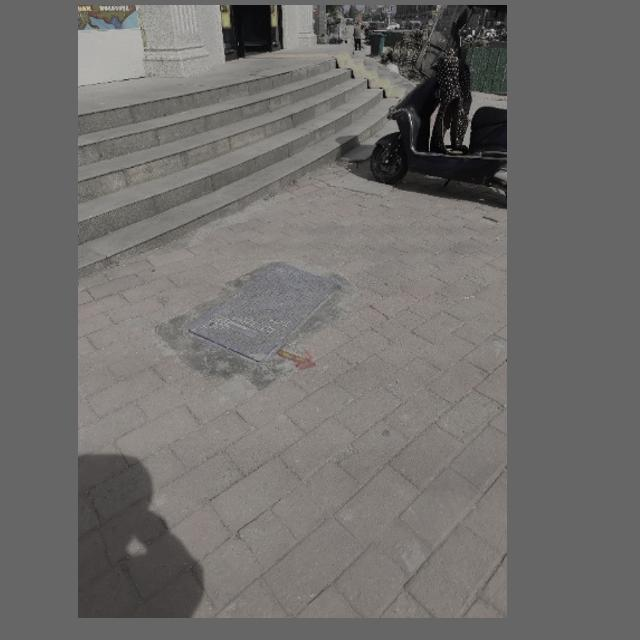good: (185, 262, 340, 362)
